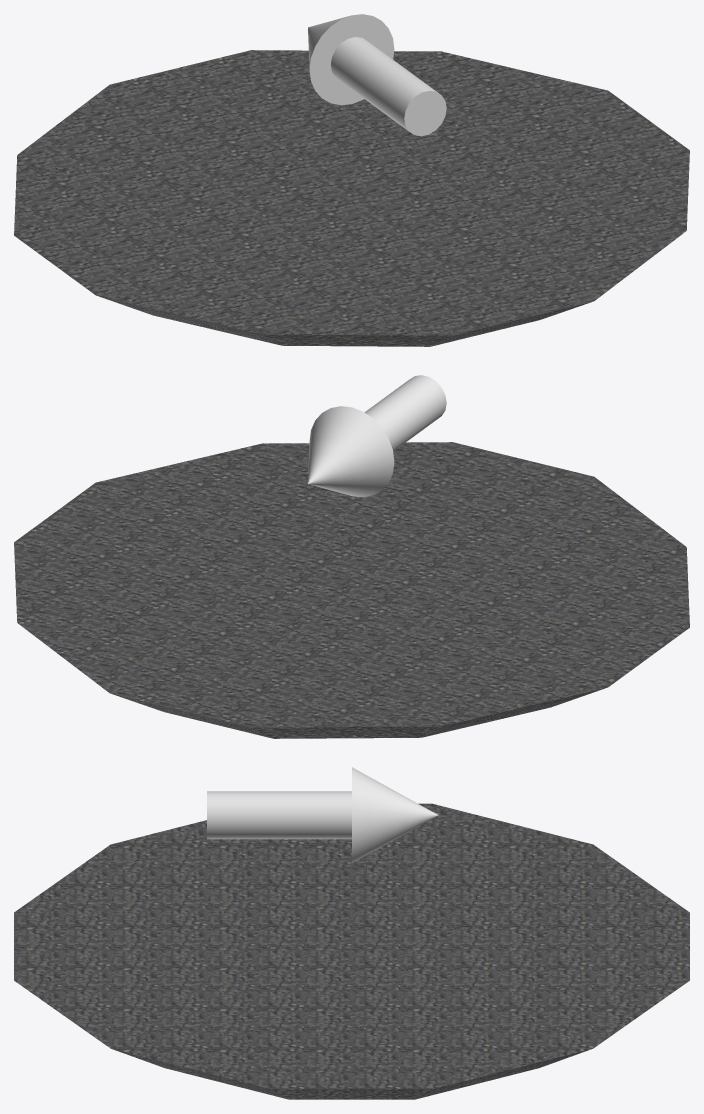
File: mapparts1_move.fbx
The picture shows the model from 3 angles, top to bottom: view 1: azimuth 30°, elevation 25°; view 2: azimuth 150°, elevation 25°; view 3: azimuth 270°, elevation 25°; orthographic projection.
Visible parts, largest first — view 1: Box001, Cone001; view 2: Box001, Cone001; view 3: Box001, Cone001.
Part boxes in pixels (x1,y1,x2,y2): Box001: (14,50,689,346); Cone001: (308,14,446,136); Box001: (14,442,689,738); Cone001: (308,375,446,497); Box001: (14,803,689,1099); Cone001: (207,767,438,862).
Size of the model in its own units: 700 by 282 by 700.
Materials: 1 (1 with a texture image).
